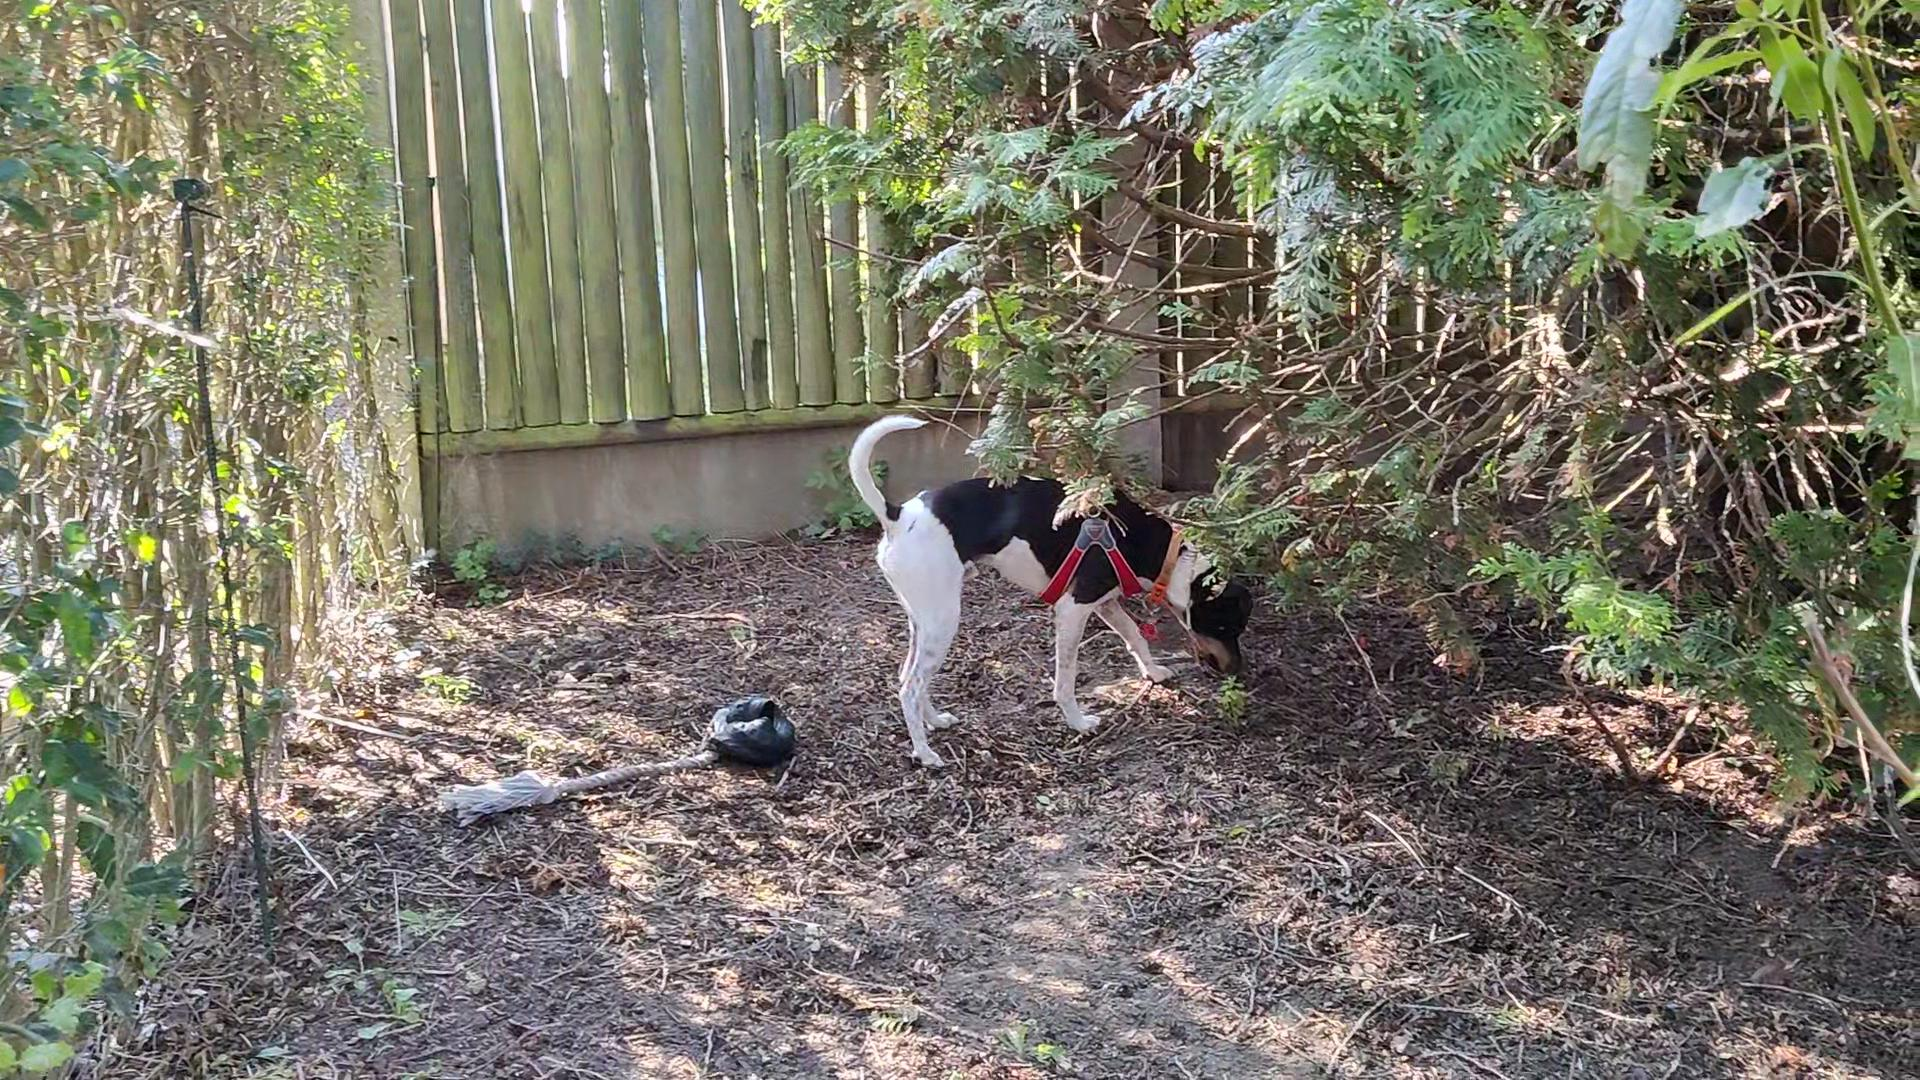Dog: (829, 407, 1261, 777)
